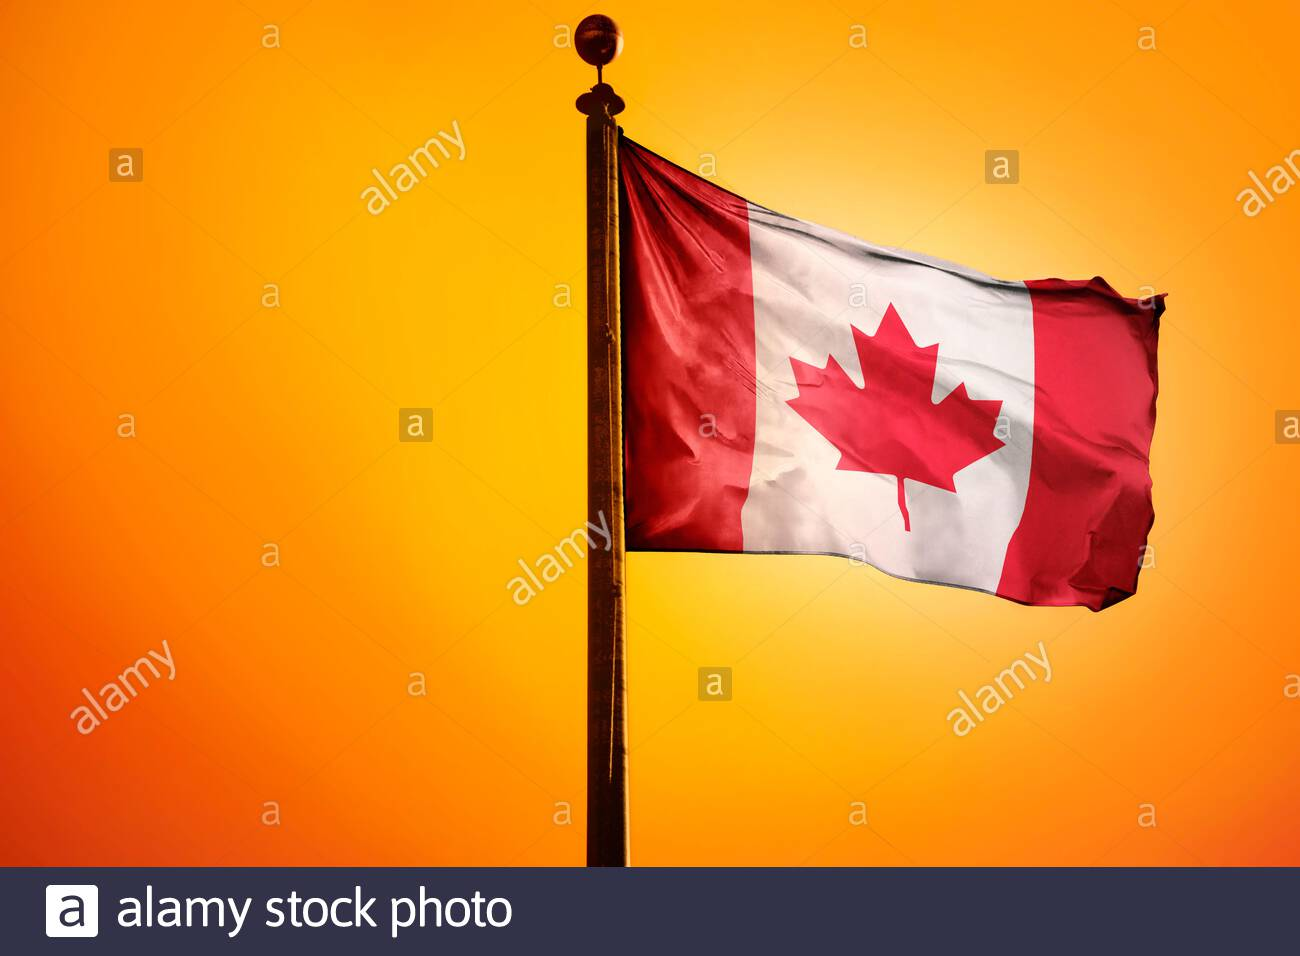Canada flag: (609, 129, 1169, 621)
